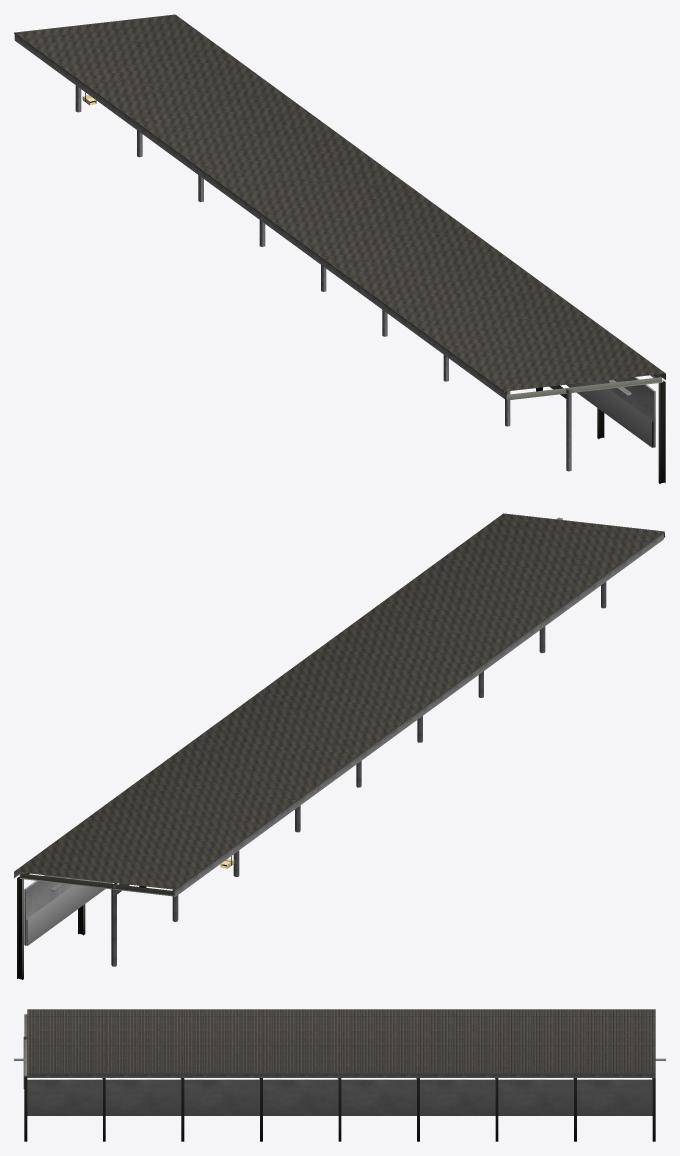
File: AMB_HOME_YANE2.glb
The picture shows the model from 3 angles, top to bottom: view 1: azimuth 30°, elevation 25°; view 2: azimuth 150°, elevation 25°; view 3: azimuth 270°, elevation 25°; orthographic projection. The views are drawn at different scales.
Visible parts, largest first — view 1: Mesh1; view 2: Mesh1; view 3: Mesh1.
Boxes of the visible parts, bbox=[...] form: Mesh1: bbox=[14, 14, 665, 483]; Mesh1: bbox=[14, 513, 665, 979]; Mesh1: bbox=[14, 1009, 665, 1141].
Size of the model in its own units: 19.01 by 14.47 by 104.
15 materials, 14 textured.
